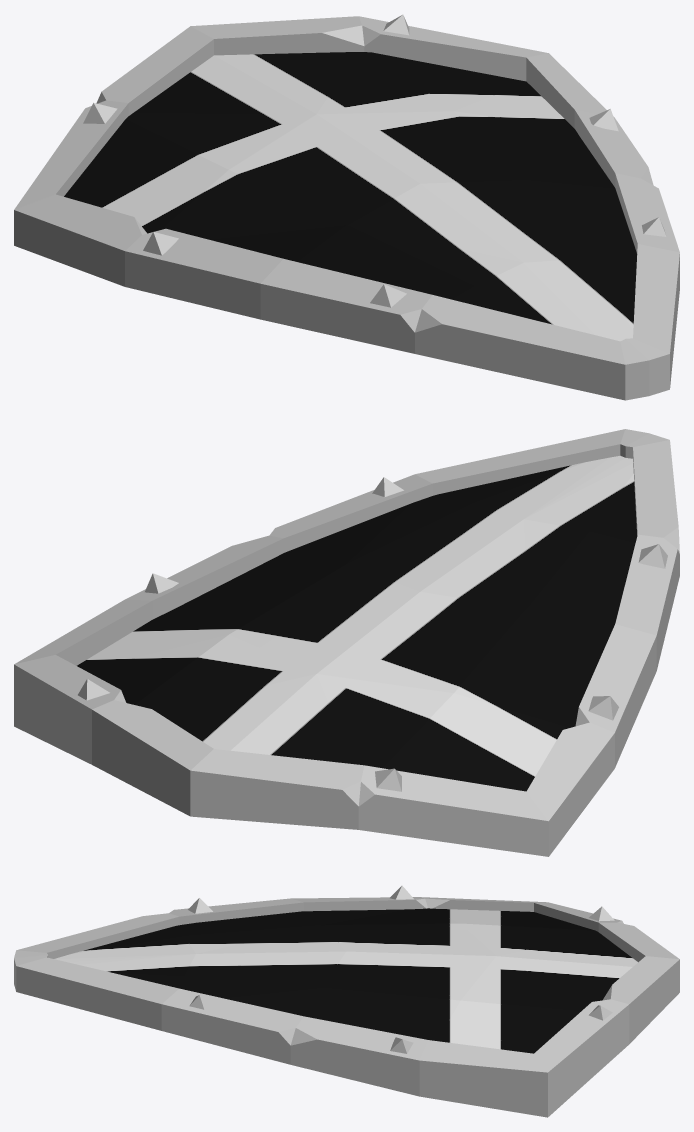
File: shield_e.FBX
The picture shows the model from 3 angles, top to bottom: view 1: azimuth 30°, elevation 25°; view 2: azimuth 150°, elevation 25°; view 3: azimuth 270°, elevation 25°; orthographic projection. The views are drawn at different scales.
Visible parts, largest first — view 1: shield_e; view 2: shield_e; view 3: shield_e.
Boxes of the visible parts, box(x1,y1,x2,y2) form: shield_e: box(14, 14, 679, 400); shield_e: box(14, 429, 679, 856); shield_e: box(14, 885, 679, 1117).
Bounding box in the file's own units: 0.7342 × 0.1489 × 1.09.
